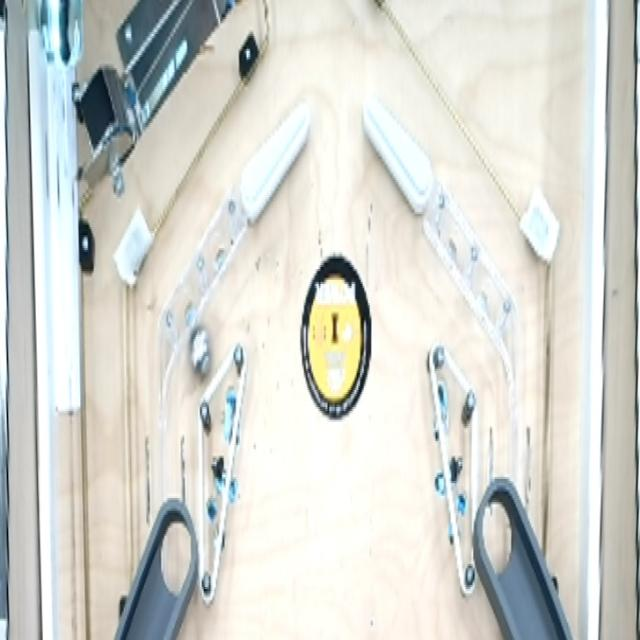ball: (188, 319, 214, 383)
flipper-left: (360, 85, 436, 236)
flipper-right: (235, 98, 313, 227)
